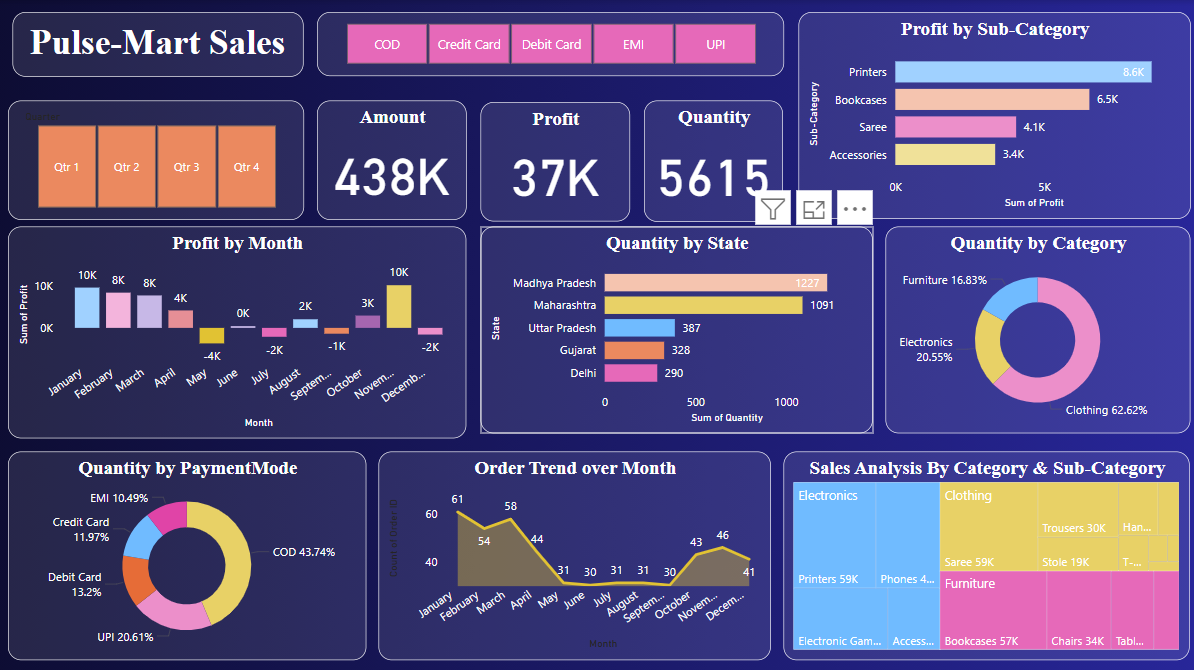

Layout of this report page (visuals, bound fields, positions):
{"tool":"powerbi","page":{"name":"Page 1","canvas":[1280,720],"ordinal":0},"visuals":[{"type":"card","title":"Amount","fields":{"Values":["Sum(Details (1).Amount)"]},"box":[340.2,105.8,158.7,126.6],"z":0},{"type":"card","title":"Profit","fields":{"Values":["Sum(Details (1).Profit)"]},"box":[514,107.7,158.7,126.6],"z":1},{"type":"card","title":"Quantity","fields":{"Values":["Sum(Details (1).Quantity)"]},"box":[687.9,105.8,147.4,128.5],"z":2},{"type":"barChart","title":" Profit by Sub-Category","fields":{"Category":["Details (1).Sub-Category"],"Y":["Sum(Details (1).Profit)"]},"box":[850.4,13.2,415.8,219.2],"z":3},{"type":"columnChart","title":"Profit by Month","fields":{"Category":["Orders (2).Order Date.Variation.Date Hierarchy.Month"],"Y":["Sum(Details (1).Profit)"]},"box":[13.2,240,485.7,224.9],"z":4},{"type":"barChart","title":"Quantity by State","fields":{"Category":["Orders (2).State"],"Y":["Sum(Details (1).Quantity)"]},"box":[514,240,415.8,219.2],"z":5},{"type":"donutChart","title":" Quantity by Category","fields":{"Category":["Details (1).Category"],"Y":["Sum(Details (1).Quantity)"]},"box":[943,240,323.2,219.2],"z":6},{"type":"donutChart","title":" Quantity by PaymentMode","fields":{"Y":["Sum(Details (1).Quantity)"],"Category":["Details (1).PaymentMode"]},"box":[13.2,478.1,379.8,221.1],"z":7},{"type":"areaChart","title":"Order Trend over Month","fields":{"Category":["Orders (2).Order Date.Variation.Date Hierarchy.Month"],"Y":["CountNonNull(Orders (2).Order ID)"]},"box":[406.3,478.1,415.8,221.1],"z":8},{"type":"treemap","title":"Sales Analysis By Category & Sub-Category","fields":{"Group":["Details (1).Category"],"Details":["Details (1).Sub-Category"],"Values":["Sum(Details (1).Amount)"]},"box":[835.3,478.1,430.9,221.1],"z":9},{"type":"slicer","fields":{"Values":["Details (1).PaymentMode"]},"box":[340.2,13.2,495.1,68],"z":10},{"type":"slicer","fields":{"Values":["Orders (2).Order Date.Variation.Date Hierarchy.Quarter"]},"box":[13.2,105.8,313.7,126.6],"z":11},{"type":"textbox","box":[17.5,12.7,308.6,68.4],"z":12}]}

Visuals, with their boxes in screenshot pixels (x1, y1, x2, y2), scaled from the page's 1280x720 canvas onto the 1194x670 screenshot:
"Amount" card: x1=317, y1=98, x2=465, y2=216
"Profit" card: x1=479, y1=100, x2=628, y2=218
"Quantity" card: x1=642, y1=98, x2=779, y2=218
" Profit by Sub-Category" barChart: x1=793, y1=12, x2=1181, y2=216
"Profit by Month" columnChart: x1=12, y1=223, x2=465, y2=433
"Quantity by State" barChart: x1=479, y1=223, x2=867, y2=427
" Quantity by Category" donutChart: x1=880, y1=223, x2=1181, y2=427
" Quantity by PaymentMode" donutChart: x1=12, y1=445, x2=367, y2=651
"Order Trend over Month" areaChart: x1=379, y1=445, x2=767, y2=651
"Sales Analysis By Category & Sub-Category" treemap: x1=779, y1=445, x2=1181, y2=651
slicer - Details (1).PaymentMode: x1=317, y1=12, x2=779, y2=76
slicer - Orders (2).Order Date.Variation.Date Hierarchy.Quarter: x1=12, y1=98, x2=305, y2=216
textbox: x1=16, y1=12, x2=304, y2=75
